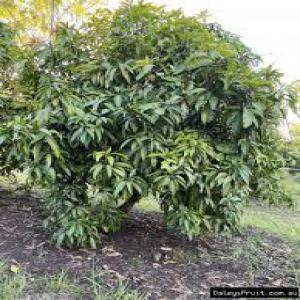Tree: (1, 2, 294, 256)
